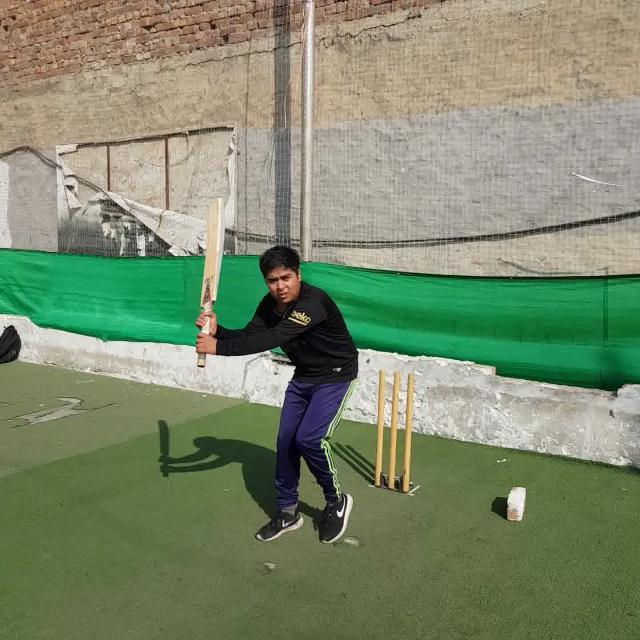bat: (197, 198, 224, 367)
